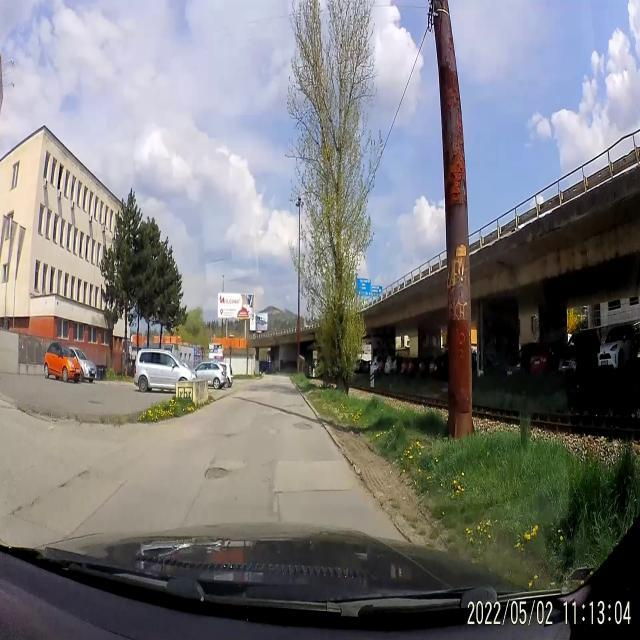Pothole: (54, 455, 92, 512), (202, 457, 237, 491), (287, 413, 315, 435), (222, 428, 237, 442)
